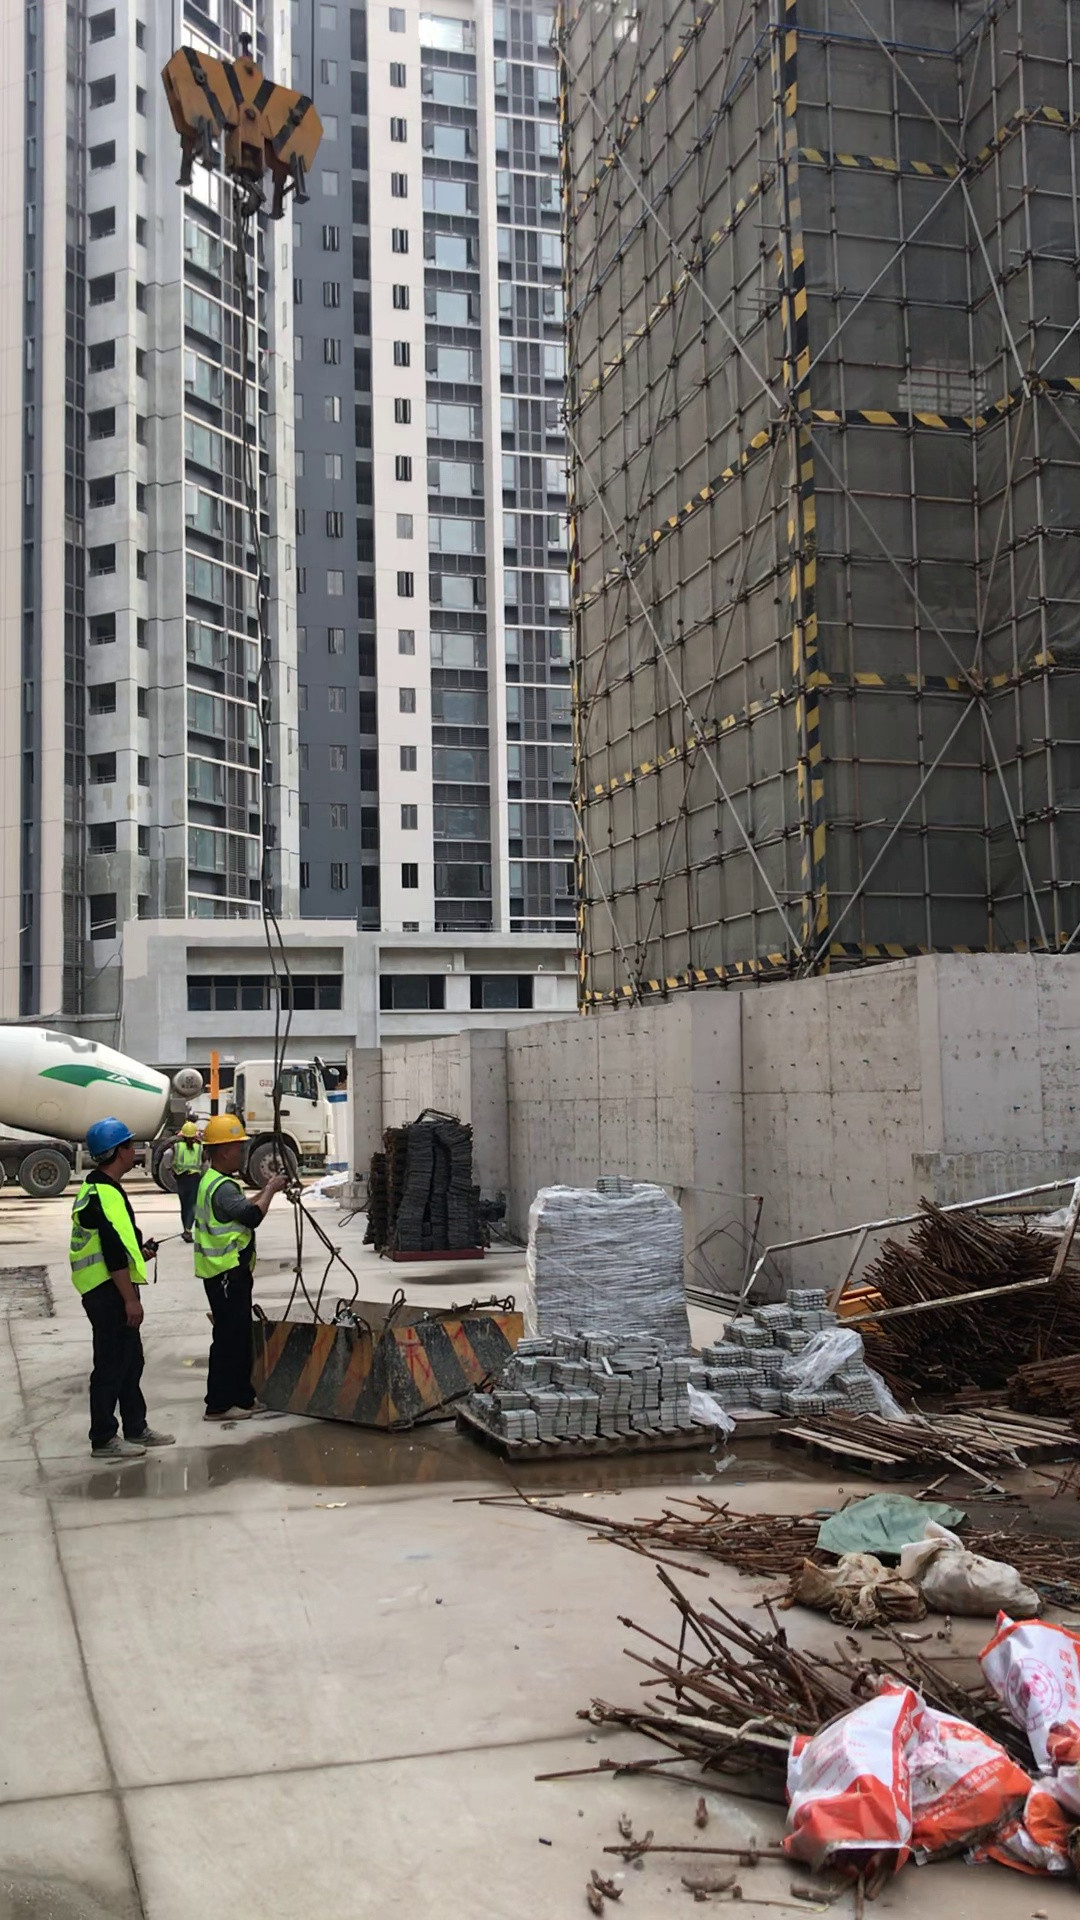helmet: (84, 1115, 136, 1150), (200, 1113, 251, 1143), (179, 1120, 201, 1138)
hook: (157, 36, 324, 217)
hopper: (249, 1278, 524, 1428)
person: (57, 1113, 171, 1463), (175, 1112, 277, 1423), (169, 1119, 203, 1245)
vest: (74, 1175, 149, 1290), (196, 1176, 252, 1271), (176, 1142, 202, 1175)
